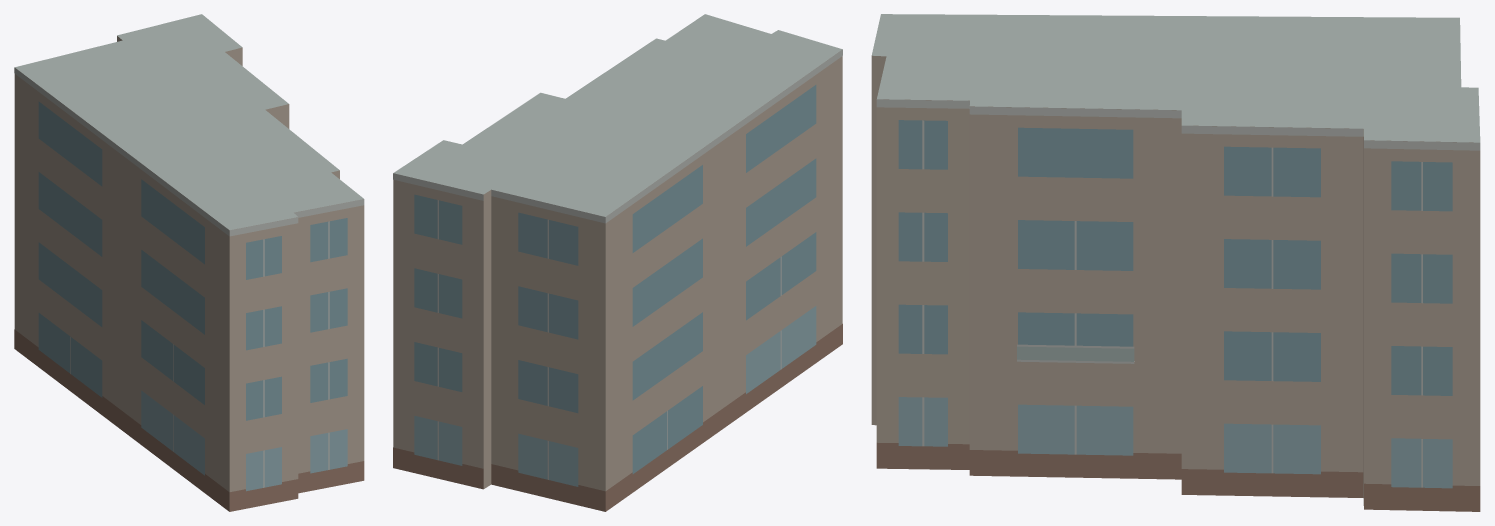
The model's file is survey-upis-32510337.glb.
3 views of the same model, side by side, from view 1: azimuth 30°, elevation 25°; view 2: azimuth 150°, elevation 25°; view 3: azimuth 270°, elevation 25° (orthographic). The views are drawn at different scales.
Parts seen in each view (by area): view 1: survey-upis-32510337.tmp; view 2: survey-upis-32510337.tmp; view 3: survey-upis-32510337.tmp.
Part boxes in pixels (x1,y1,x2,y2): survey-upis-32510337.tmp: [14, 14, 364, 511]; survey-upis-32510337.tmp: [393, 14, 842, 511]; survey-upis-32510337.tmp: [871, 14, 1480, 511].
Size of the model in its own units: 8.3 by 11.1 by 16.6.
